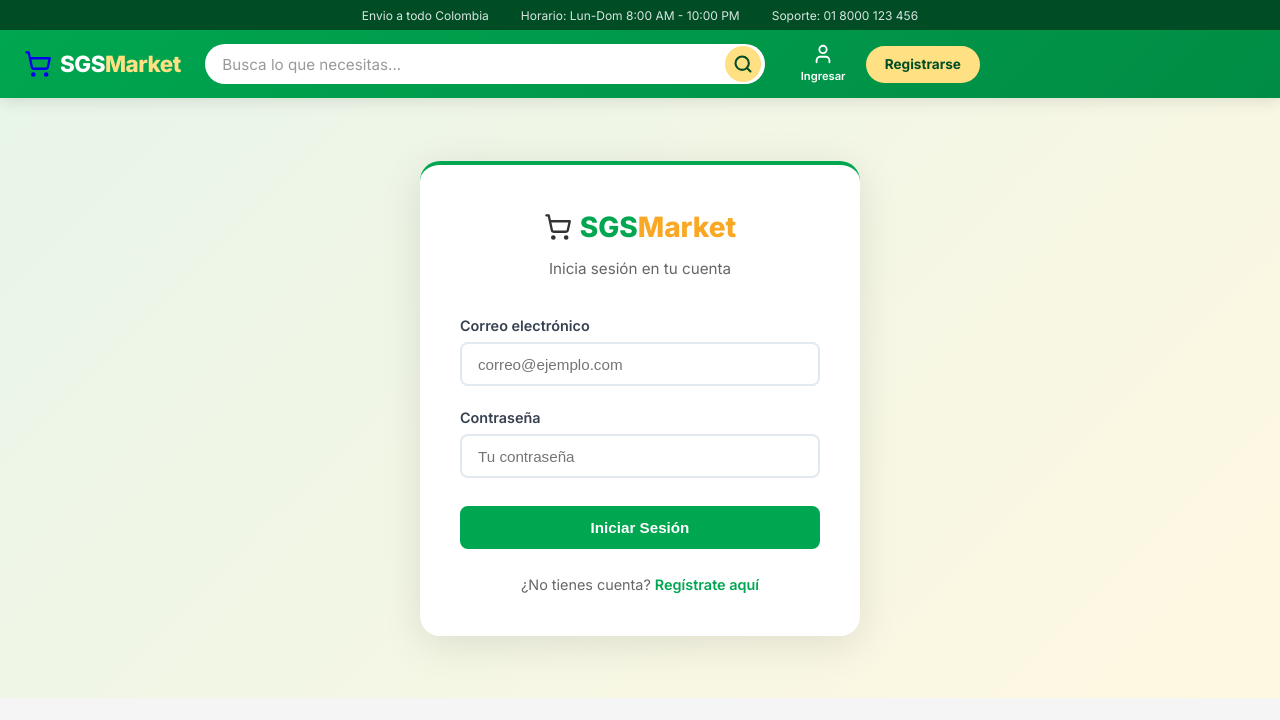
Test case: Autenticación › C47 Login fallido muestra mensaje de error
The width and height of the screenshot is (1280, 720).
Type "noexiste@sgs.com" into the field with test id "login-email" at (640, 364), box x1=460 y1=342 x2=820 y2=385
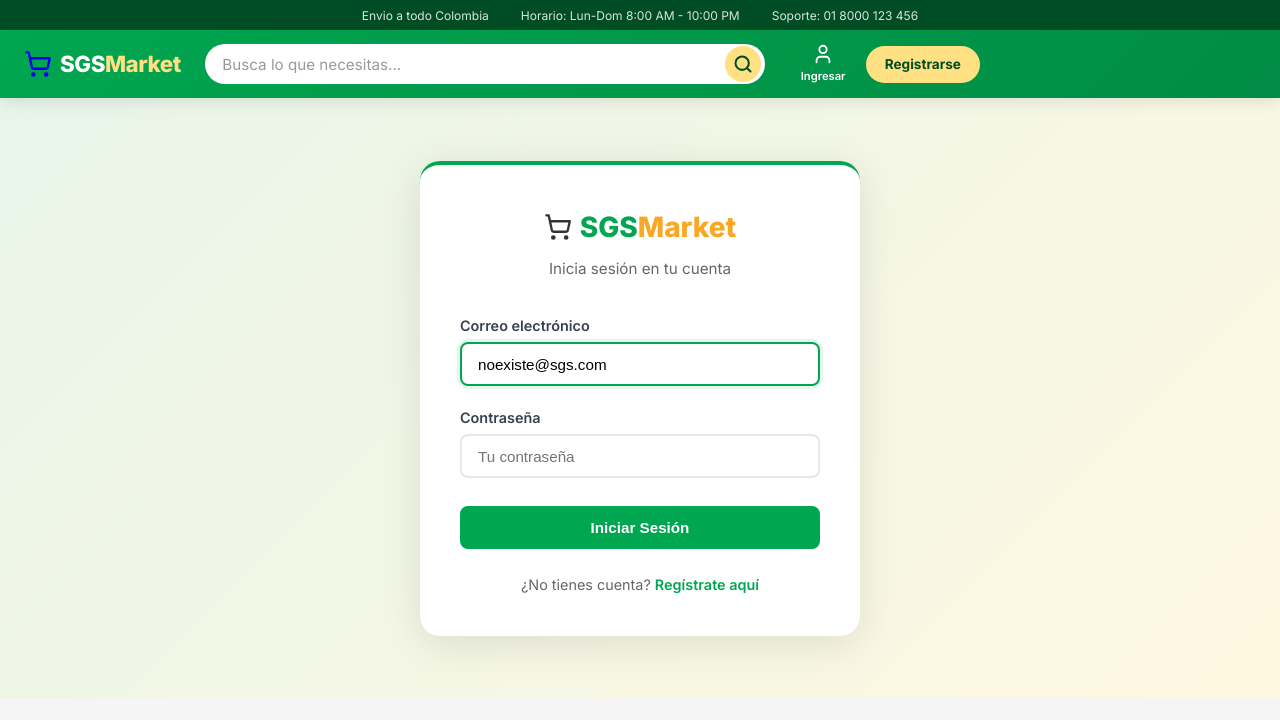
Type "passwordIncorrecta123" into the password field with test id "login-password" at (640, 456), box x1=460 y1=434 x2=820 y2=477
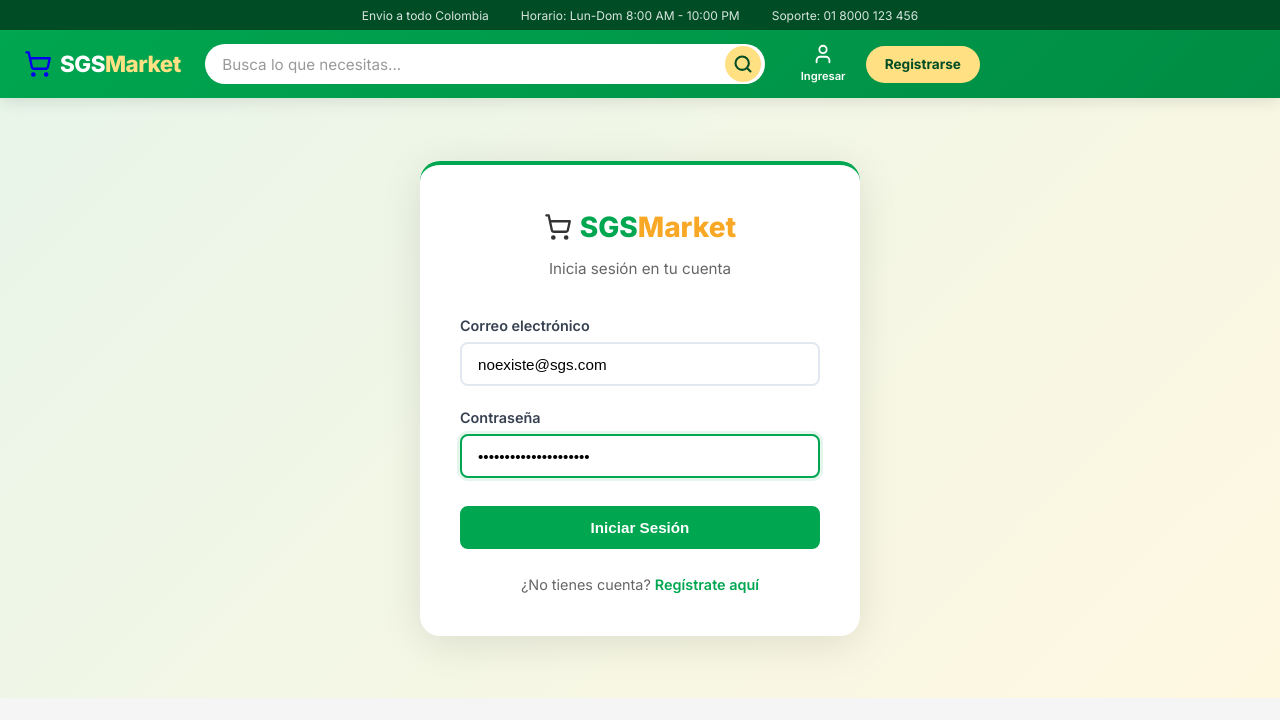
Click the button with test id "login-submit" at (640, 528), box x1=460 y1=506 x2=820 y2=549
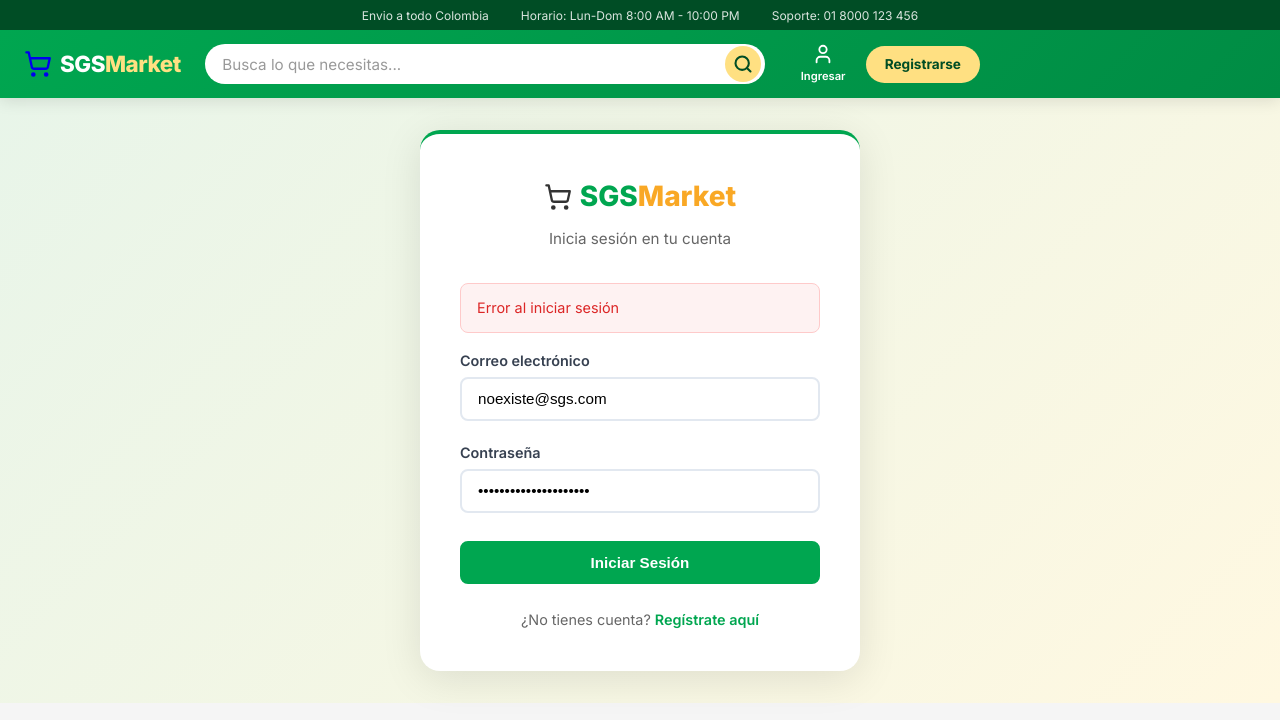
Expected: the text "Error al iniciar sesión" is shown, x1=460 y1=284 x2=820 y2=332
